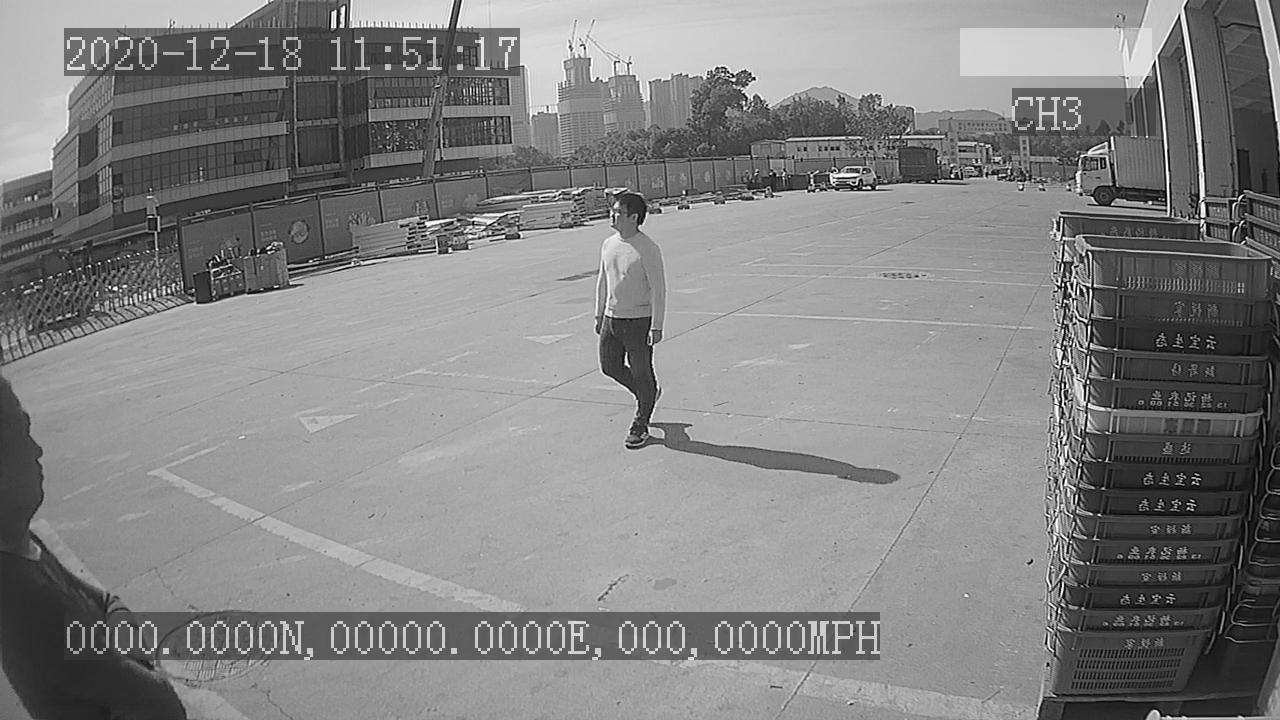person: (588, 188, 674, 456)
